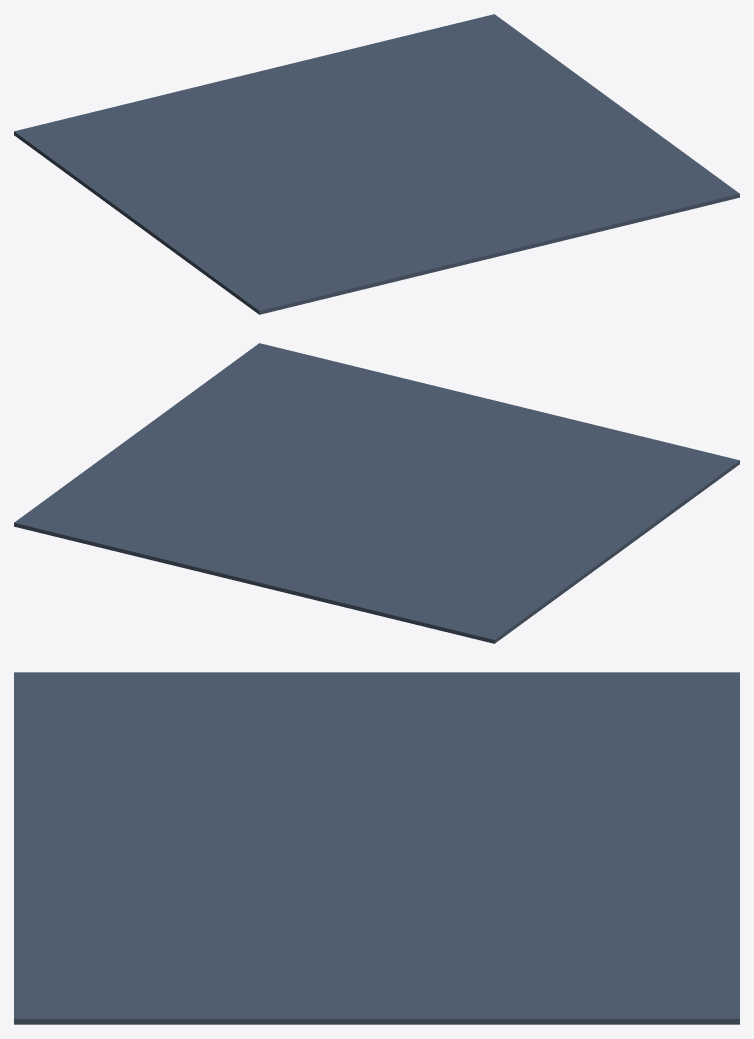
File: floor_geometry.obj
The picture shows the model from 3 angles, top to bottom: view 1: azimuth 30°, elevation 25°; view 2: azimuth 150°, elevation 25°; view 3: azimuth 270°, elevation 25°; orthographic projection. The views are drawn at different scales.
Parts seen in each view (by area): view 1: Floor_001_f_ab45724127, Floor_003_f_9cb64ad9f6, Floor_002_f_a279f46b87; view 2: Floor_001_f_ab45724127, Floor_003_f_9cb64ad9f6, Floor_002_f_a279f46b87; view 3: Floor_001_f_ab45724127, Floor_003_f_9cb64ad9f6, Floor_002_f_a279f46b87.
Boxes of the visible parts, x1,y1,x2,y2 form: Floor_001_f_ab45724127: [14, 51, 586, 314]; Floor_003_f_9cb64ad9f6: [451, 95, 739, 234]; Floor_002_f_a279f46b87: [341, 14, 604, 132]; Floor_001_f_ab45724127: [167, 380, 739, 643]; Floor_003_f_9cb64ad9f6: [125, 343, 412, 479]; Floor_002_f_a279f46b87: [14, 442, 277, 563]; Floor_001_f_ab45724127: [14, 672, 739, 907]; Floor_003_f_9cb64ad9f6: [14, 908, 413, 1024]; Floor_002_f_a279f46b87: [413, 908, 739, 1024].
Bounding box in the file's own units: 26 × 0.2 × 23.
